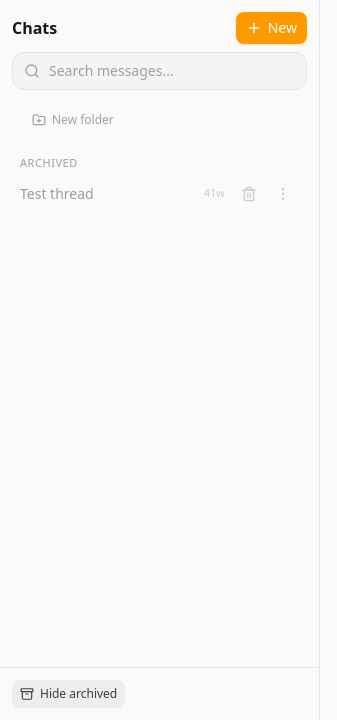
Test case: ThreadSidebar action menu › hides the Pin entry for archived threads but keeps Unarchive
The width and height of the screenshot is (337, 720).
Click the button titled "Actions" at point(283, 194), box [267,184,299,204]
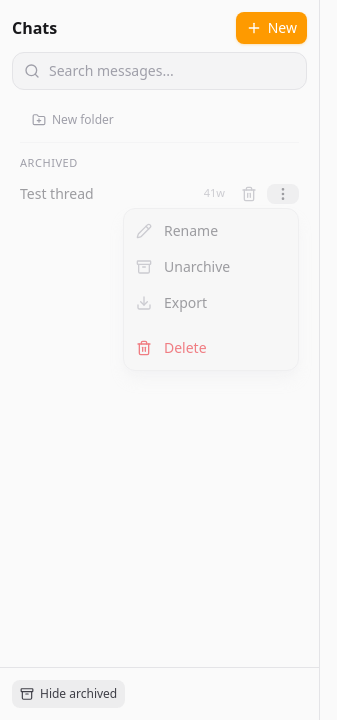
Result: the button "Unarchive" is shown at [124,248,298,284]
